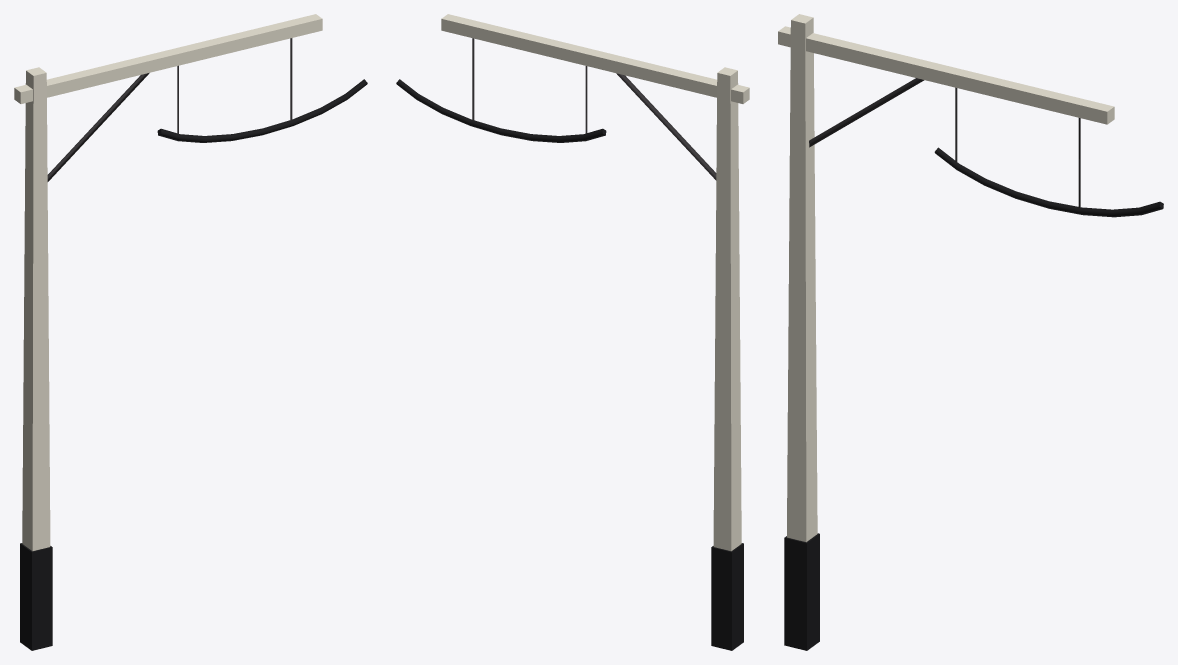
The model's file is loading_gauge.glb.
The picture shows the model from 3 angles, left to right: view 1: azimuth 30°, elevation 25°; view 2: azimuth 150°, elevation 25°; view 3: azimuth 330°, elevation 25°; orthographic projection. The views are drawn at different scales.
Parts seen in each view (by area): view 1: Body; view 2: Body; view 3: Body.
Boxes of the visible parts, bbox=[...] form: Body: bbox=[14, 14, 367, 650]; Body: bbox=[396, 14, 749, 650]; Body: bbox=[778, 14, 1163, 650].
Size of the model in its own units: 3.71 by 5.8 by 0.22.
